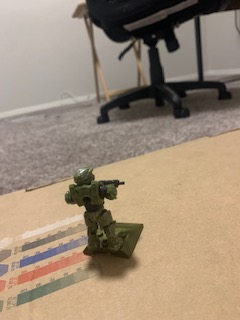soldier: (63, 163, 130, 260)
